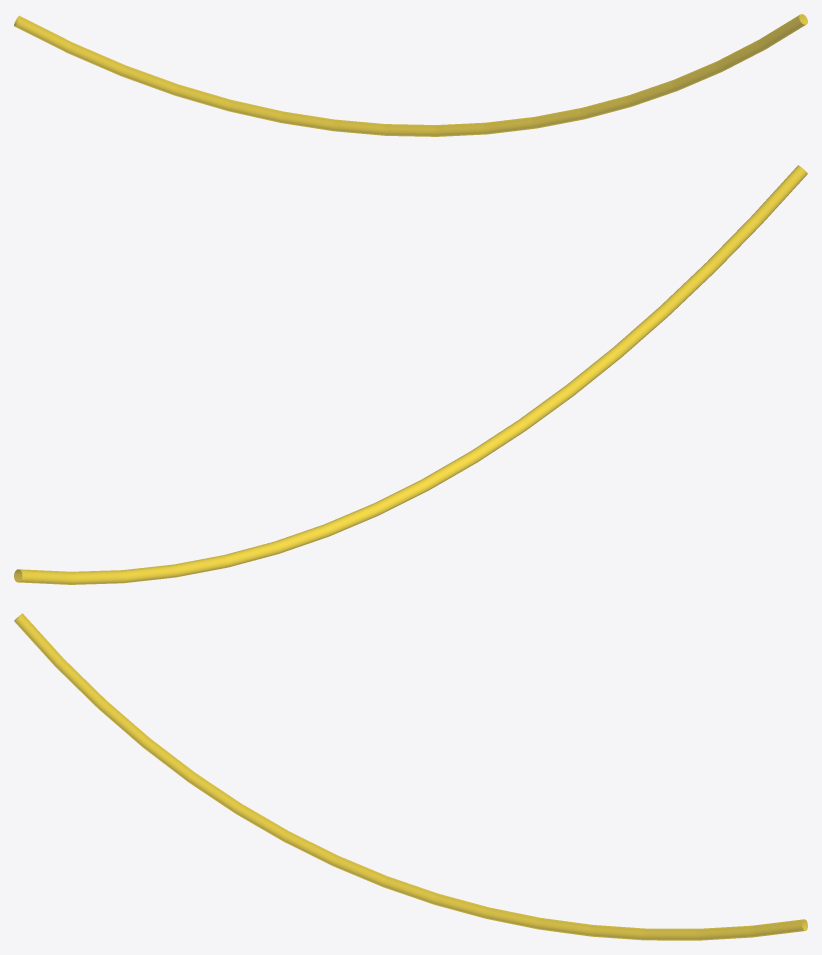
Rendered from Event_17758602_track_24.fbx.
3 renders of one model, top to bottom at view 1: azimuth 90°, elevation 25°; view 2: azimuth 150°, elevation 25°; view 3: azimuth 270°, elevation 25°, orthographic. The views are drawn at different scales.
Parts seen in each view (by area): view 1: Model; view 2: Model; view 3: Model.
Boxes of the visible parts, box(x1,y1,x2,y2) form: Model: box(14, 14, 807, 136); Model: box(14, 165, 807, 584); Model: box(14, 613, 807, 940).
Bounding box in the file's own units: 1.25 × 0.784 × 2.66.
